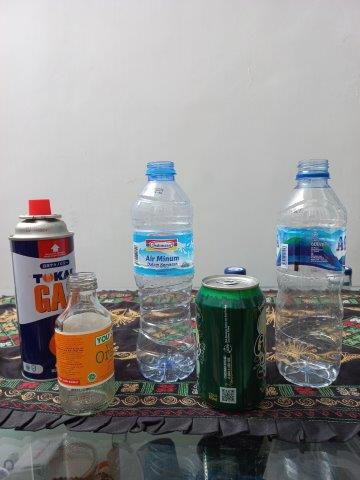botolkaca: (54, 271, 115, 416)
botolplastik: (278, 160, 347, 387), (131, 163, 196, 383)
kaleng: (13, 197, 76, 380), (195, 279, 266, 409)
